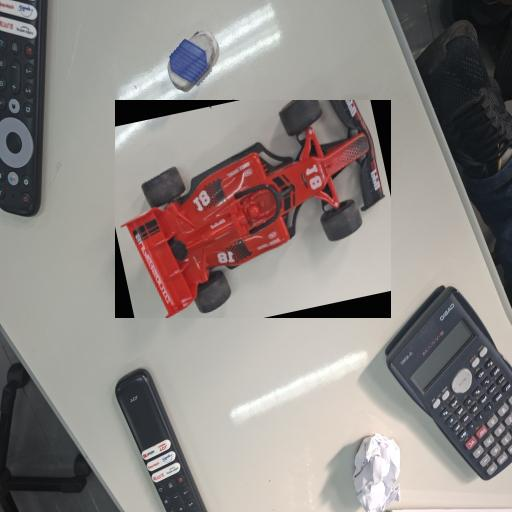carro: (115, 100, 391, 318)
